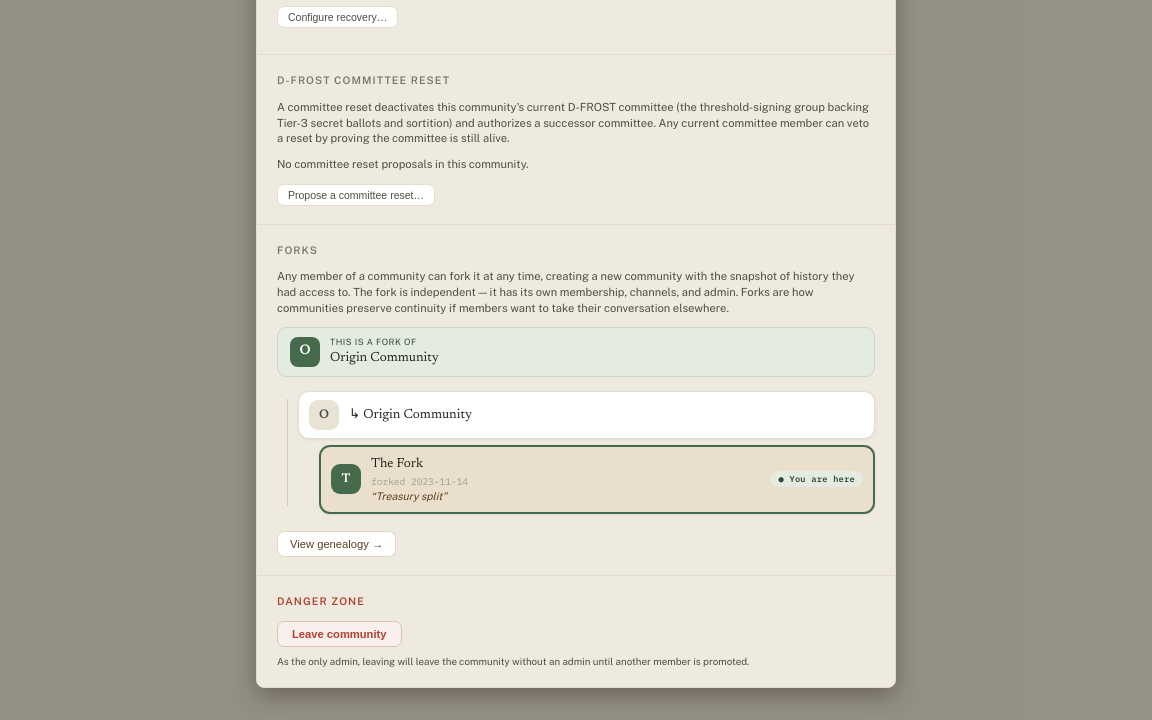
Test: CommunitySettingsPanel › ZEB-649: "View genealogy" opens the graph modal for a fork; hidden for a fork-less root
The image size is (1152, 720).
(page scrolled)
Step 1. Click the button "View genealogy →" → (337, 544), box [277,531,396,557]
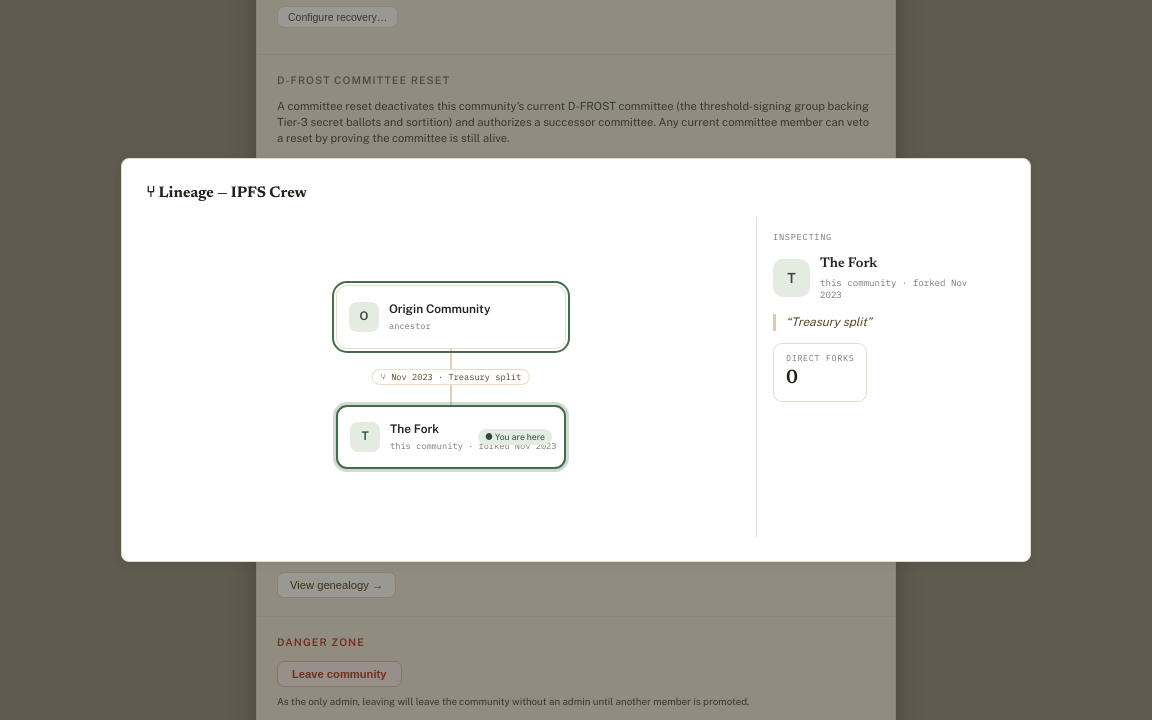
Expected: the element with test id "fork-genealogy" is shown, [304,217,1006,537]
Expected: the element with test id "fork-genealogy" shows "“Treasury split”", [786,315,872,329]
